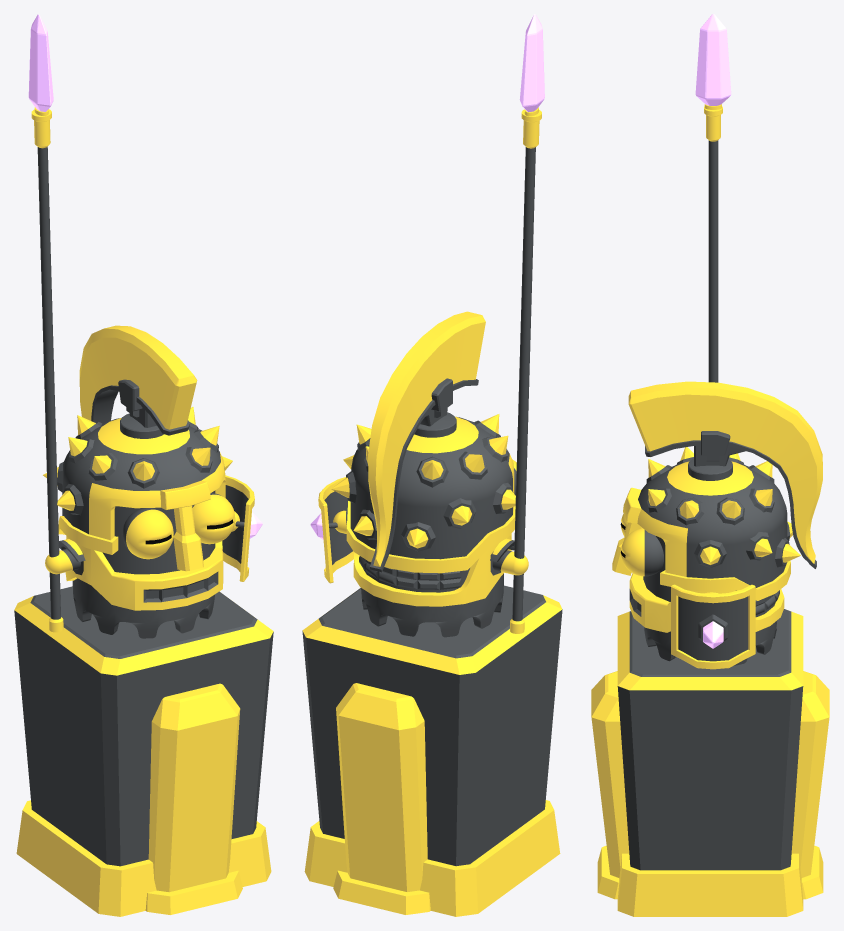
The model's file is religious_pedestal_soldat.fbx.
3 views of the same model, side by side, from view 1: azimuth 30°, elevation 25°; view 2: azimuth 150°, elevation 25°; view 3: azimuth 270°, elevation 25° (orthographic). The views are drawn at different scales.
Visible parts, largest first — view 1: pedistal, substand, helmet, mowawk, religious_soldat, spear, mouthplate, spikes, eye2, shield, gem, eye1 (+3 smaller); view 2: pedistal, substand, helmet, mowawk, spear, spikes, religious_soldat, mouthplate, shield, gem, rear_guard, mohawk_base (+1 smaller); view 3: pedistal, mowawk, helmet, substand, shield, spikes, spear, gem, mouthplate, religious_soldat, eye1, mohawk_base.
Boxes of the visible parts, x1,y1,x2,y2 form: pedistal: (14, 586, 273, 916); substand: (145, 683, 242, 914); helmet: (58, 413, 225, 554); mowawk: (79, 325, 197, 435); religious_soldat: (72, 490, 215, 638); spear: (31, 107, 63, 632); mouthplate: (65, 536, 223, 610); spikes: (43, 407, 232, 515); eye2: (122, 508, 173, 559); shield: (222, 475, 254, 581); gem: (28, 14, 53, 111); eye1: (192, 493, 235, 544); pedistal: (302, 585, 562, 916); substand: (333, 683, 430, 914); helmet: (346, 412, 515, 573); mowawk: (368, 311, 485, 572); spear: (510, 107, 541, 633); spikes: (331, 414, 515, 551); religious_soldat: (361, 568, 503, 637); mouthplate: (353, 533, 511, 606); shield: (318, 477, 353, 583); gem: (519, 14, 544, 112); rear_guard: (359, 556, 461, 589); mohawk_base: (431, 378, 452, 417); pedistal: (617, 609, 803, 916); mowawk: (628, 381, 822, 568); helmet: (623, 458, 790, 600); substand: (591, 671, 829, 899); shield: (671, 584, 755, 669); spikes: (646, 447, 800, 567); spear: (704, 104, 722, 382); gem: (695, 14, 731, 105); mouthplate: (629, 573, 784, 632); religious_soldat: (643, 536, 777, 665); eye1: (620, 528, 663, 576); mohawk_base: (701, 431, 730, 461).
Size of the model in its own units: 3.43 by 12.48 by 3.3.
